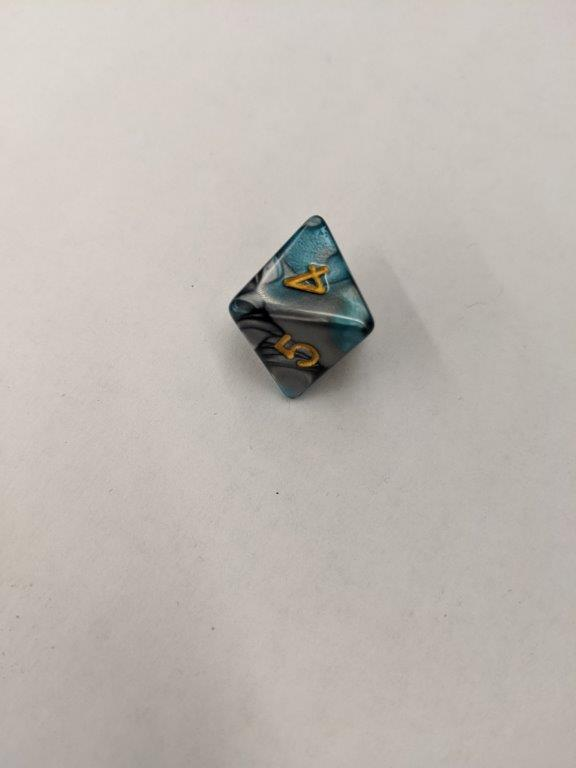d8-4: (227, 214, 375, 402)
